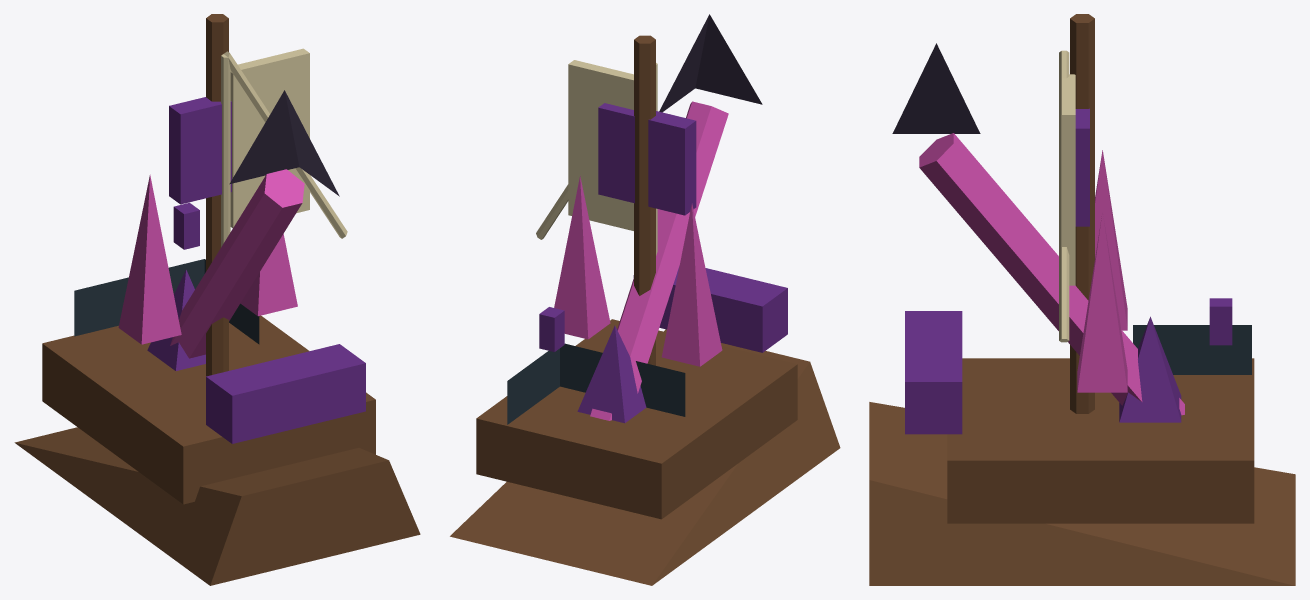
The model's file is naval-siege-ship.obj.
3 views of the same model, side by side, from view 1: azimuth 30°, elevation 25°; view 2: azimuth 150°, elevation 25°; view 3: azimuth 270°, elevation 25° (orthographic). The views are drawn at different scales.
Visible parts, largest first — view 1: ship; view 2: ship; view 3: ship.
Boxes of the visible parts, box(x1,y1,x2,y2) form: ship: box(14, 14, 420, 585); ship: box(450, 14, 840, 585); ship: box(869, 14, 1295, 585).
Size of the model in its own units: 1.13 by 2.24 by 1.69.
